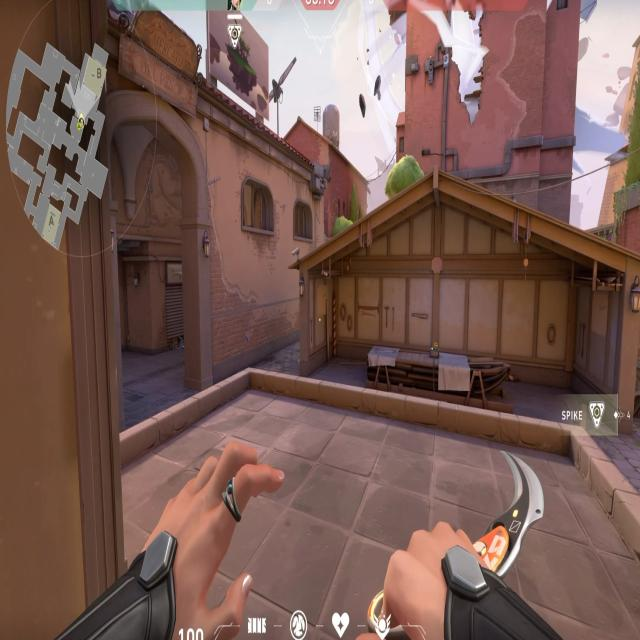B_Garage_Left: (295, 266, 381, 382)
B_Garage_Right: (503, 261, 639, 422)
